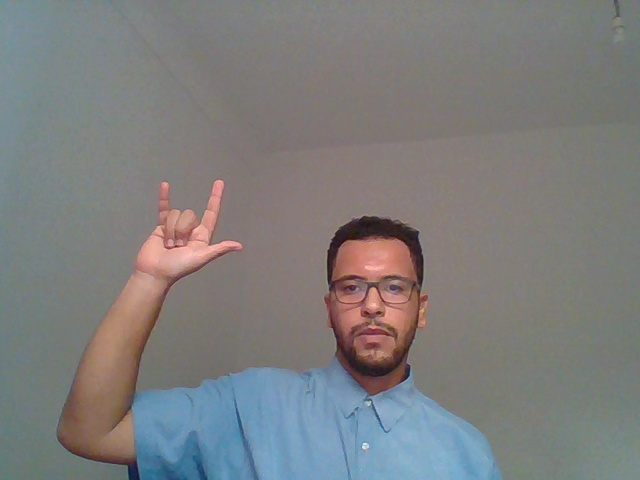iloveyou: (71, 152, 265, 393)
